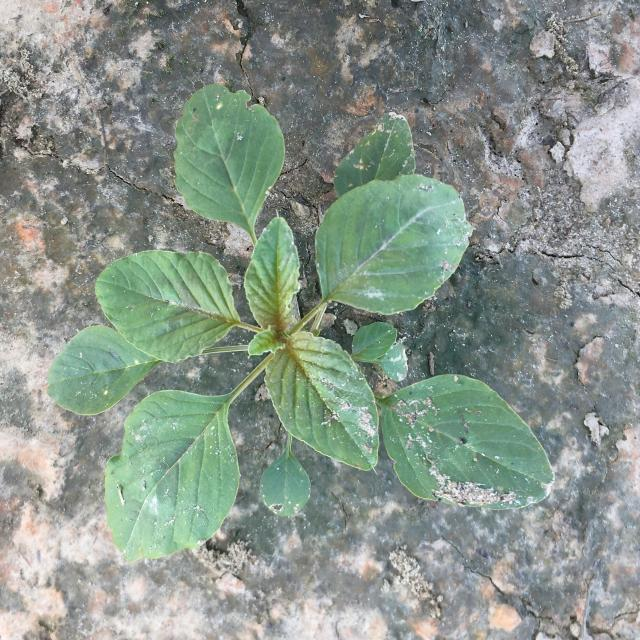PalmerAmaranth: (46, 84, 555, 561)
